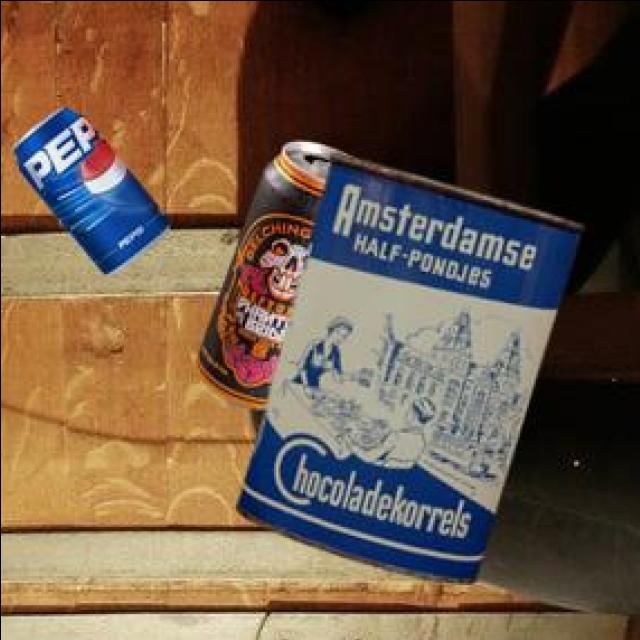logam: (238, 156, 585, 585), (198, 144, 341, 413), (17, 111, 171, 276)
